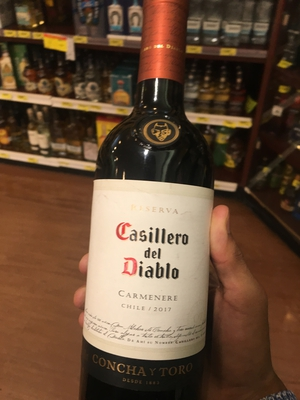casillero del diablo carmenere: (83, 13, 223, 389)
